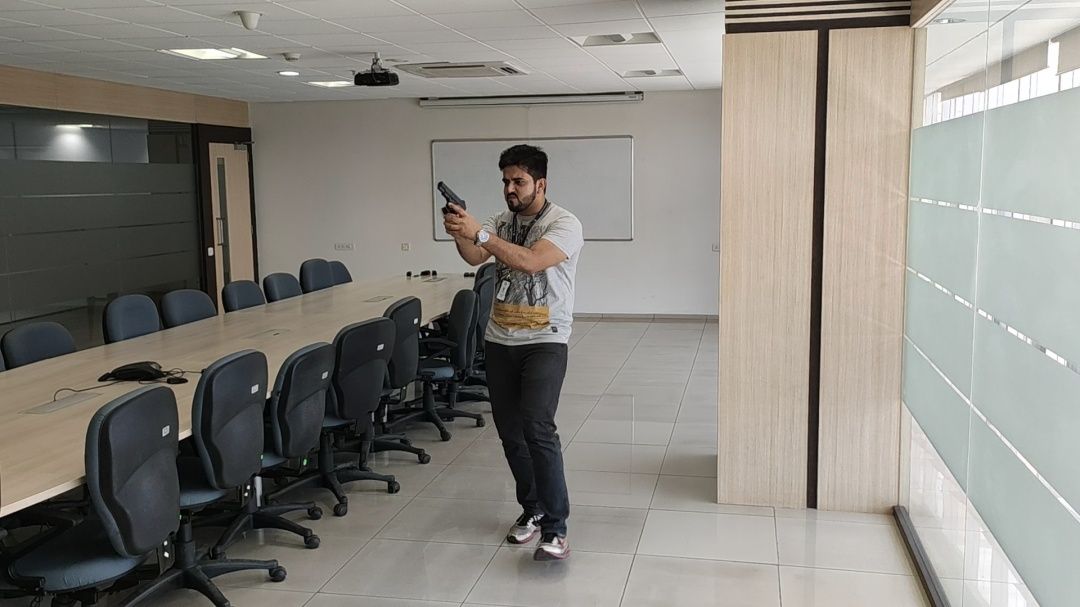gun: (435, 178, 471, 208)
